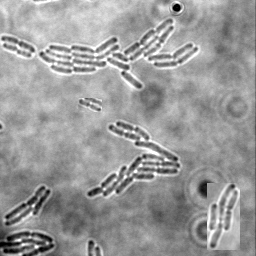Dividing: (1, 34, 37, 52), (3, 41, 33, 57), (78, 98, 102, 112)
Microcolony: (40, 18, 199, 89), (87, 120, 181, 197), (207, 183, 240, 250), (5, 184, 52, 226), (1, 230, 56, 255)
